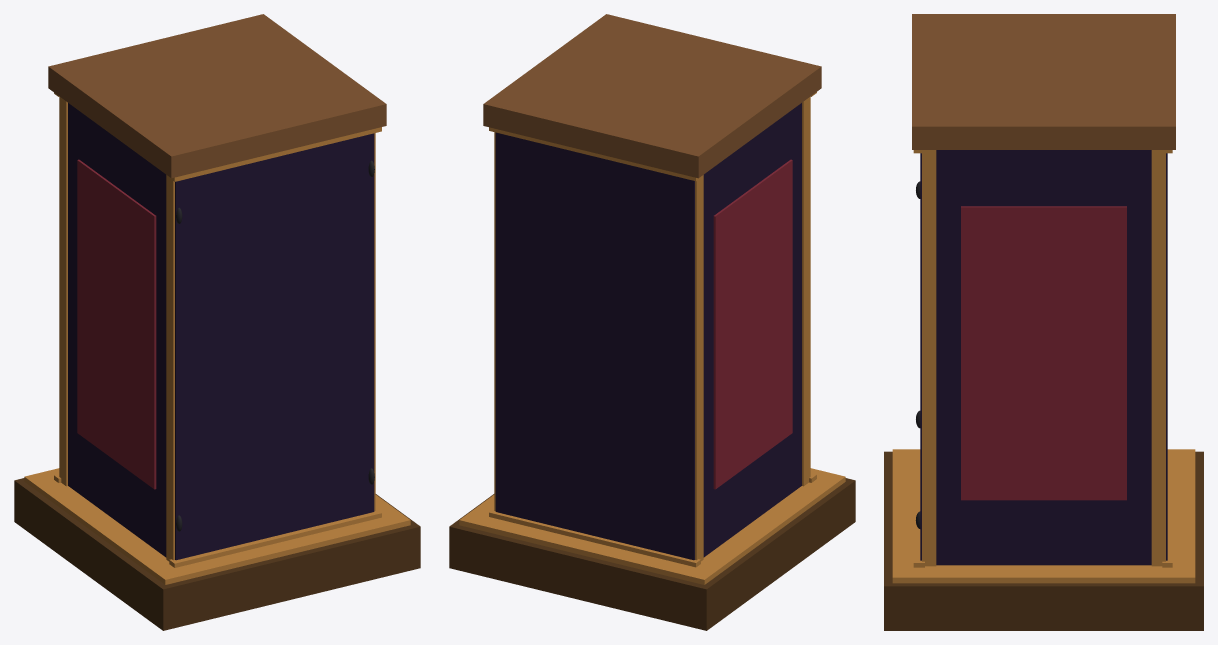
The model's file is mia-magic_box.glb.
3 views of the same model, side by side, from view 1: azimuth 30°, elevation 25°; view 2: azimuth 150°, elevation 25°; view 3: azimuth 270°, elevation 25° (orthographic). The views are drawn at different scales.
Visible parts, largest first — view 1: Body_magic-purple, Body_oak, Body_velvet, Body_wood, Body_brass; view 2: Body_magic-purple, Body_oak, Body_velvet, Body_wood, Body_brass; view 3: Body_velvet, Body_magic-purple, Body_oak, Body_brass, Body_wood.
Boxes of the visible parts, x1,y1,x2,y2 form: Body_magic-purple: (68, 103, 374, 560); Body_oak: (48, 14, 386, 178); Body_velvet: (77, 159, 156, 489); Body_wood: (14, 478, 420, 630); Body_brass: (24, 92, 410, 584); Body_magic-purple: (495, 103, 801, 560); Body_oak: (483, 14, 821, 178); Body_velvet: (713, 159, 792, 489); Body_wood: (449, 478, 855, 630); Body_brass: (459, 92, 845, 584); Body_velvet: (961, 206, 1126, 500); Body_magic-purple: (920, 150, 1167, 565); Body_oak: (912, 14, 1175, 149); Body_brass: (892, 150, 1195, 583); Body_wood: (884, 451, 1203, 630).
Bounding box in the file's own units: 1.28 × 2.19 × 1.29.
